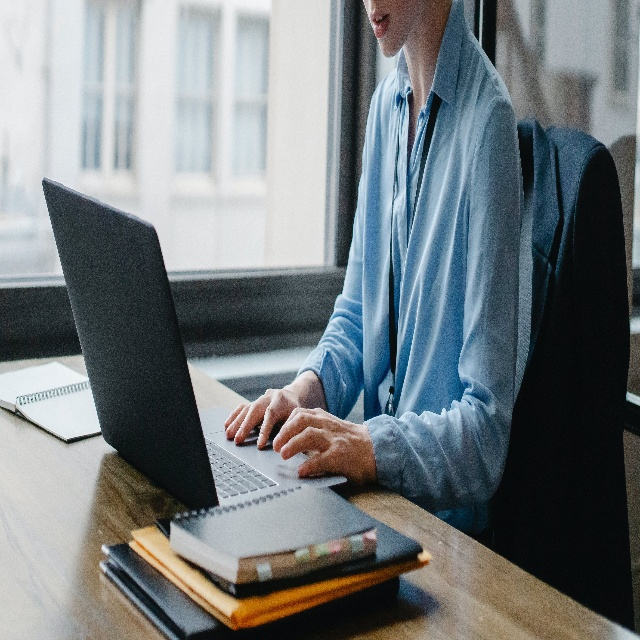Sin_guantes: (271, 405, 377, 483), (222, 384, 303, 450)
